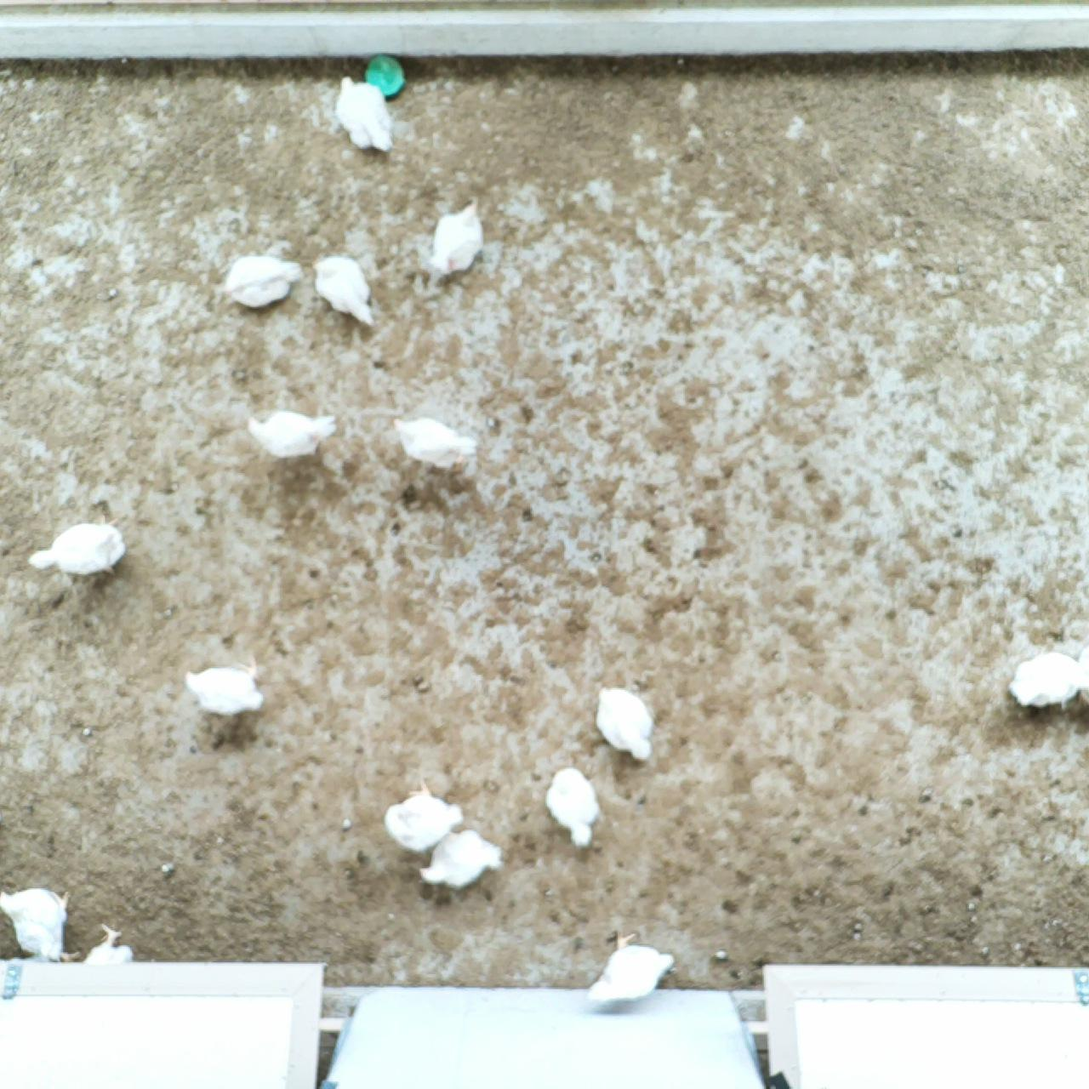chicken: (26, 507, 131, 586), (583, 926, 677, 1008), (379, 776, 465, 855), (0, 883, 83, 963), (388, 412, 484, 481), (414, 826, 507, 892), (184, 651, 265, 722), (593, 682, 658, 767), (1001, 646, 1084, 712), (428, 191, 488, 282), (332, 73, 398, 155), (543, 767, 606, 852), (244, 407, 339, 463), (312, 251, 379, 330), (223, 250, 305, 311), (82, 921, 138, 965)
